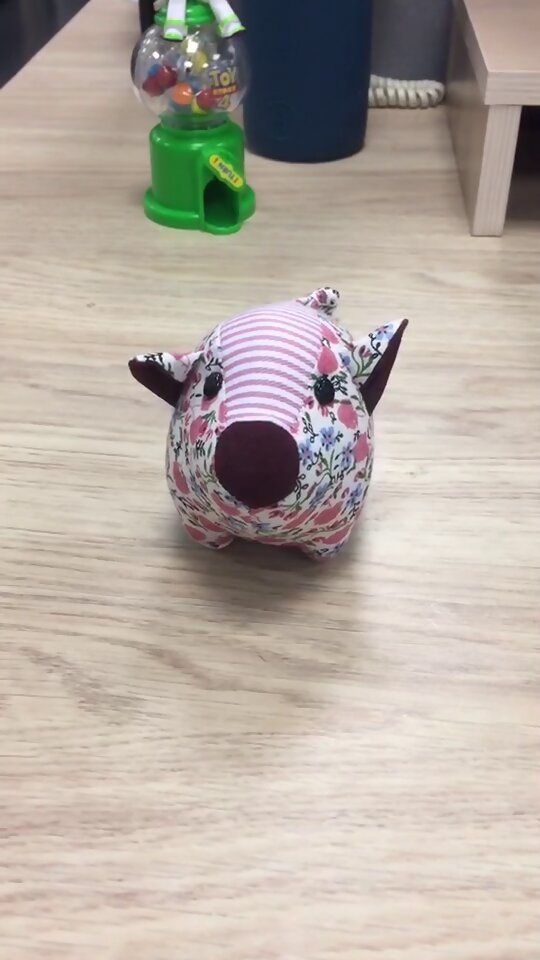pig: (124, 275, 412, 574)
